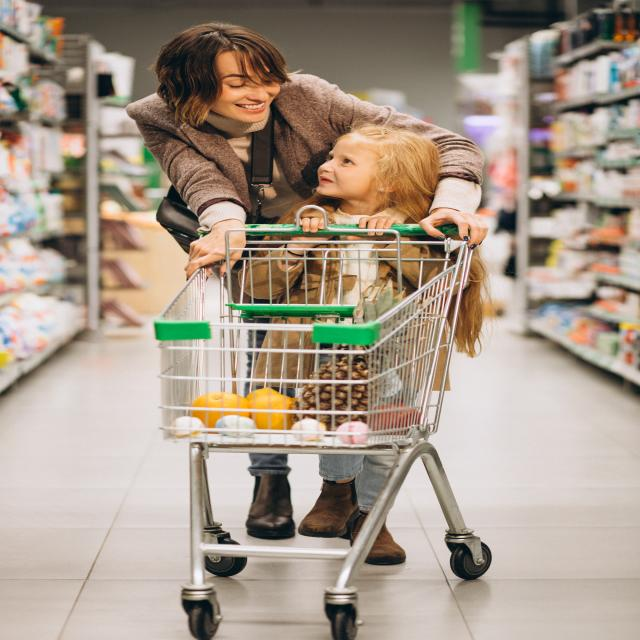Person: (130, 24, 483, 540), (242, 127, 486, 565)
